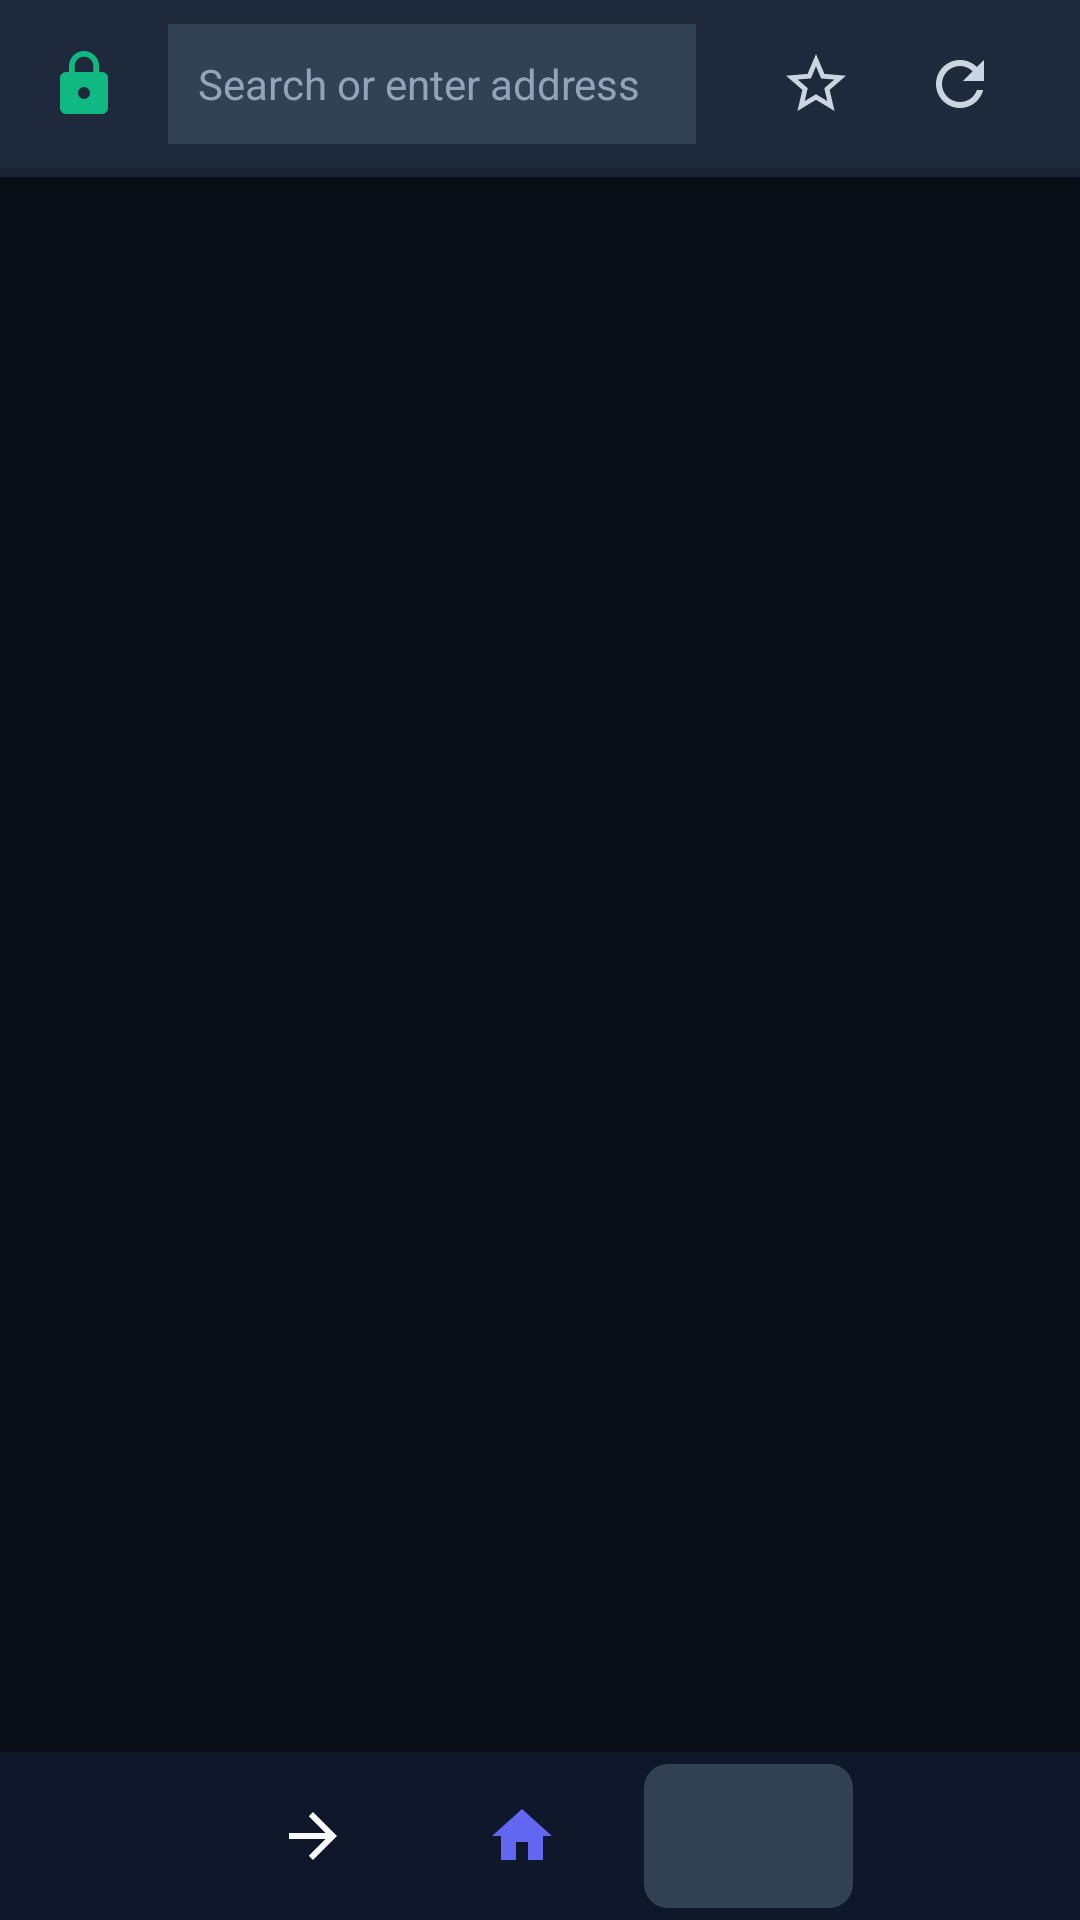

Named icons in this screenshot (1080px x 1920px) and their centers, point (x, y):
Add bookmark: point (816, 82)
Connection security indicator: point (84, 82)
Forward: point (313, 1836)
Home: point (522, 1834)
Reload: point (960, 84)
